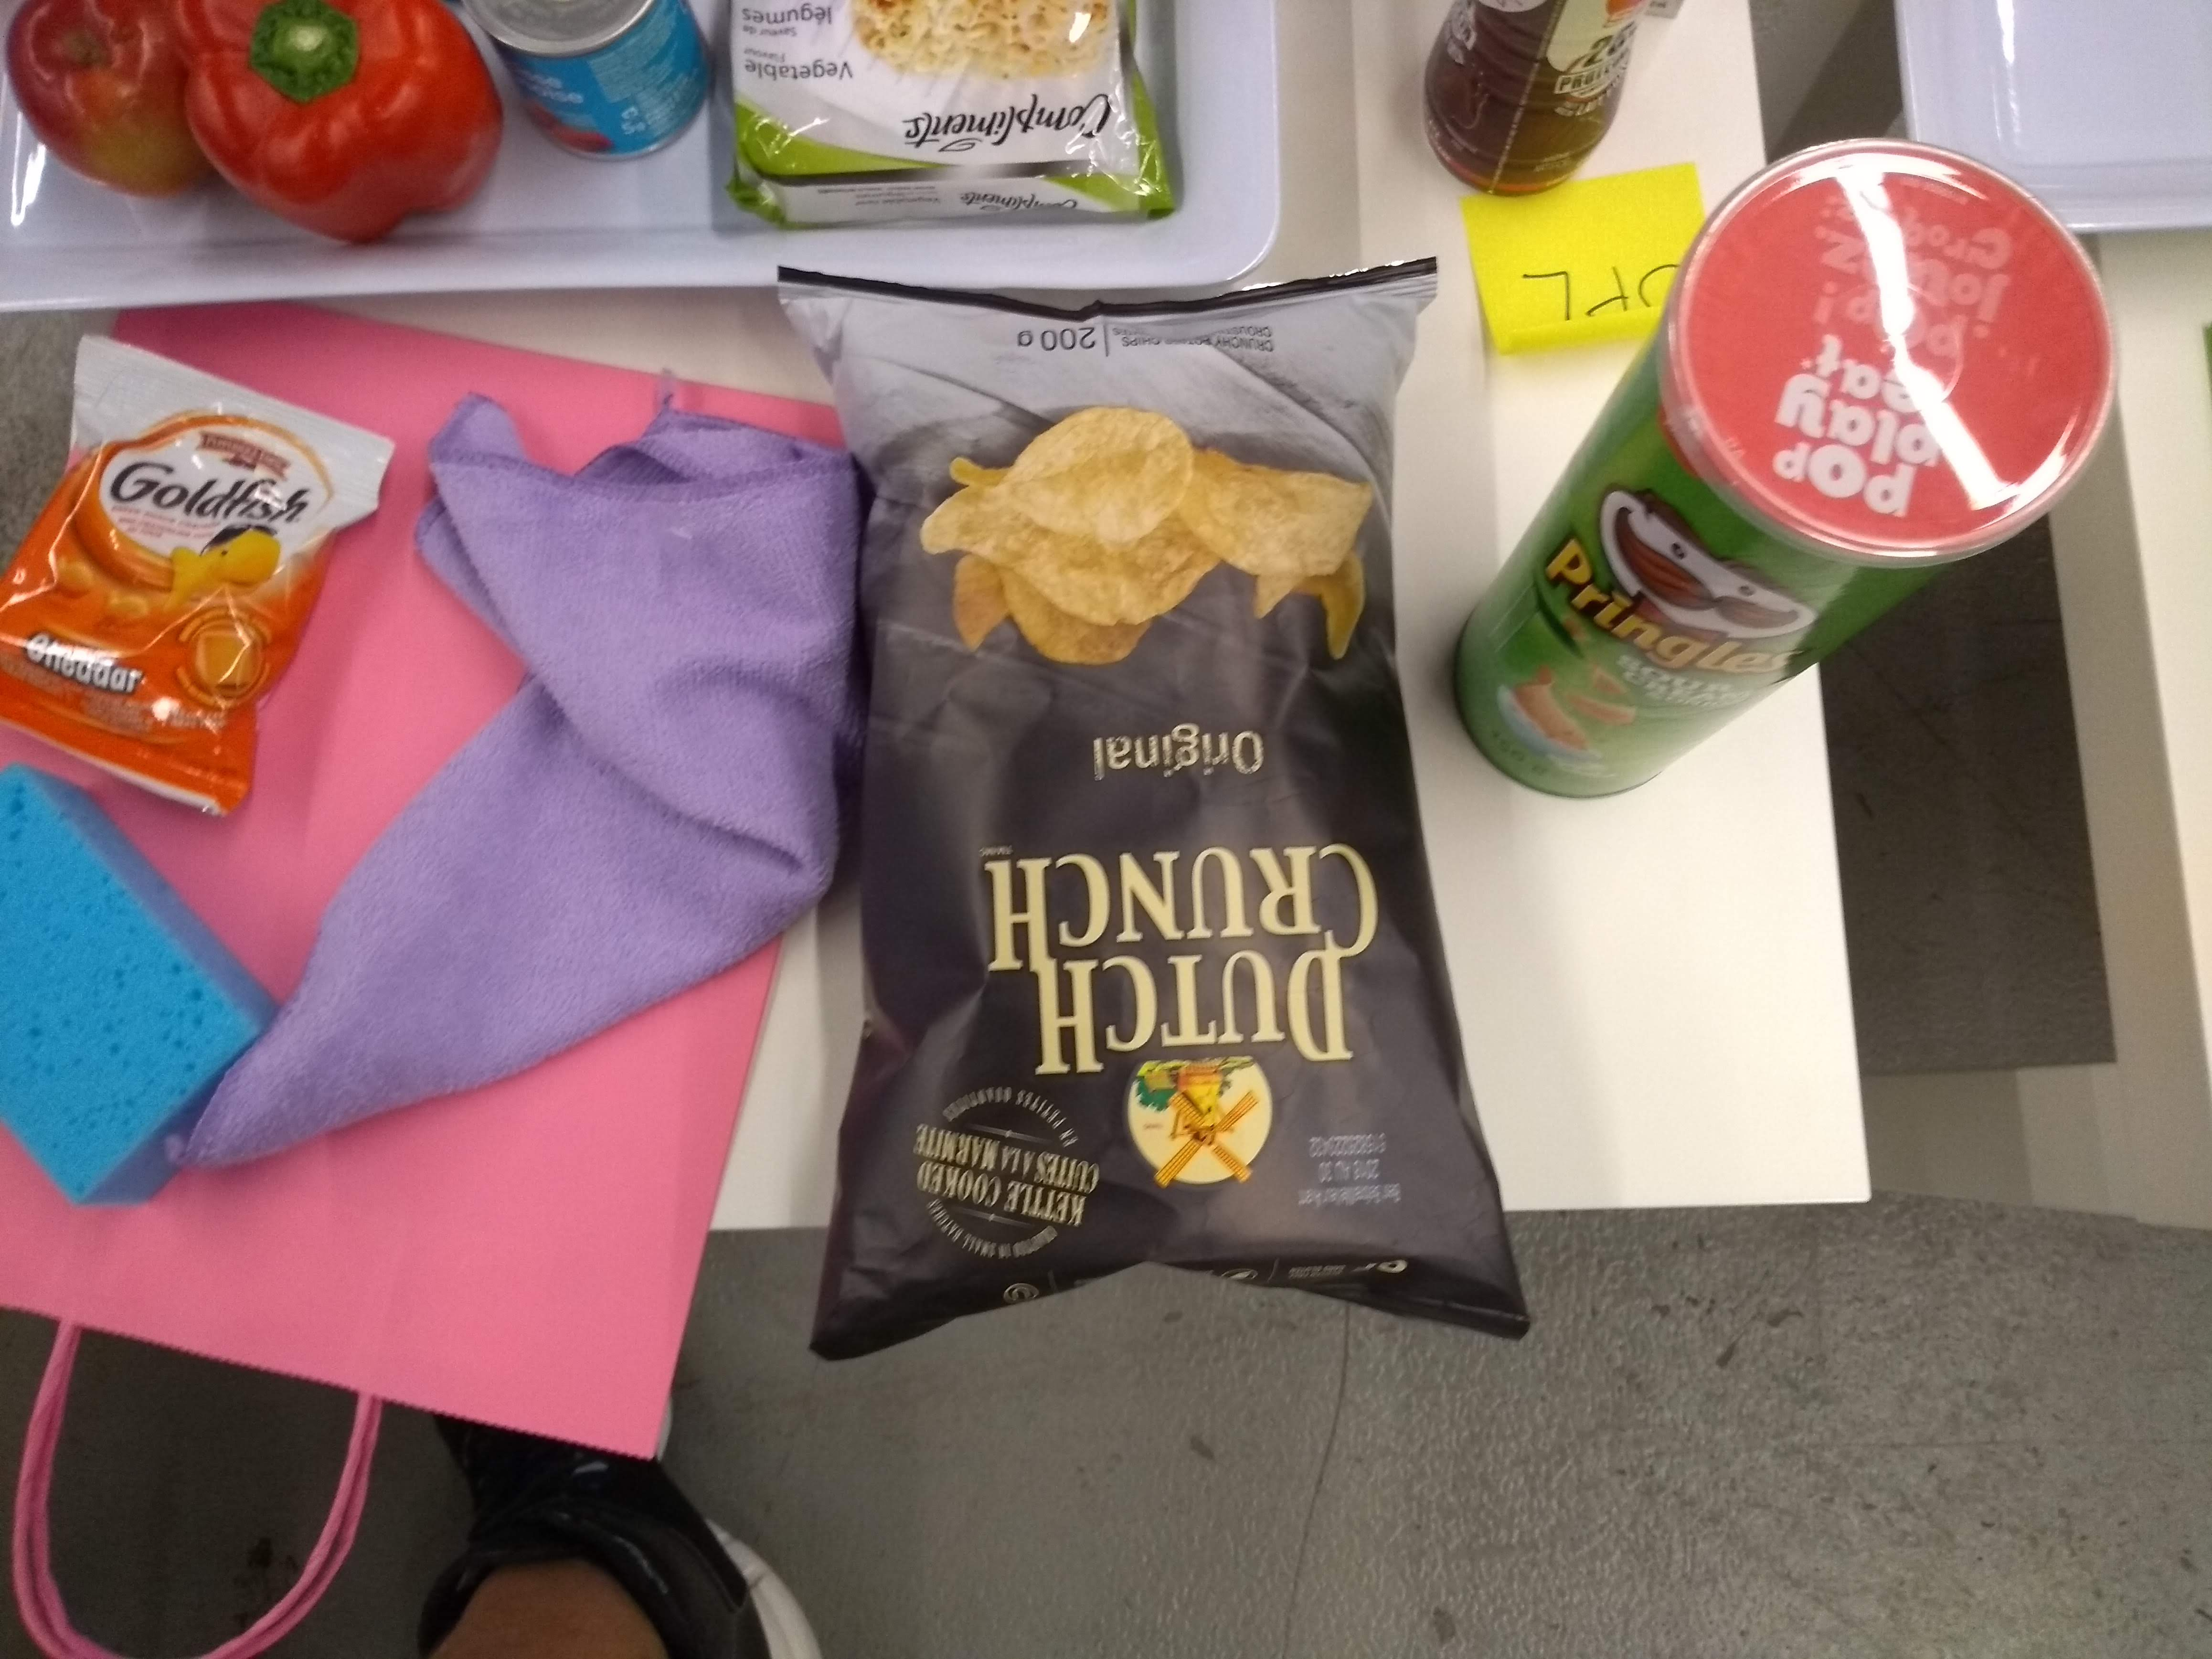crackers: (0, 329, 408, 826)
paprika: (174, 0, 507, 254)
potato_chips: (761, 249, 1541, 1370)
pringles: (1439, 131, 2127, 809)
